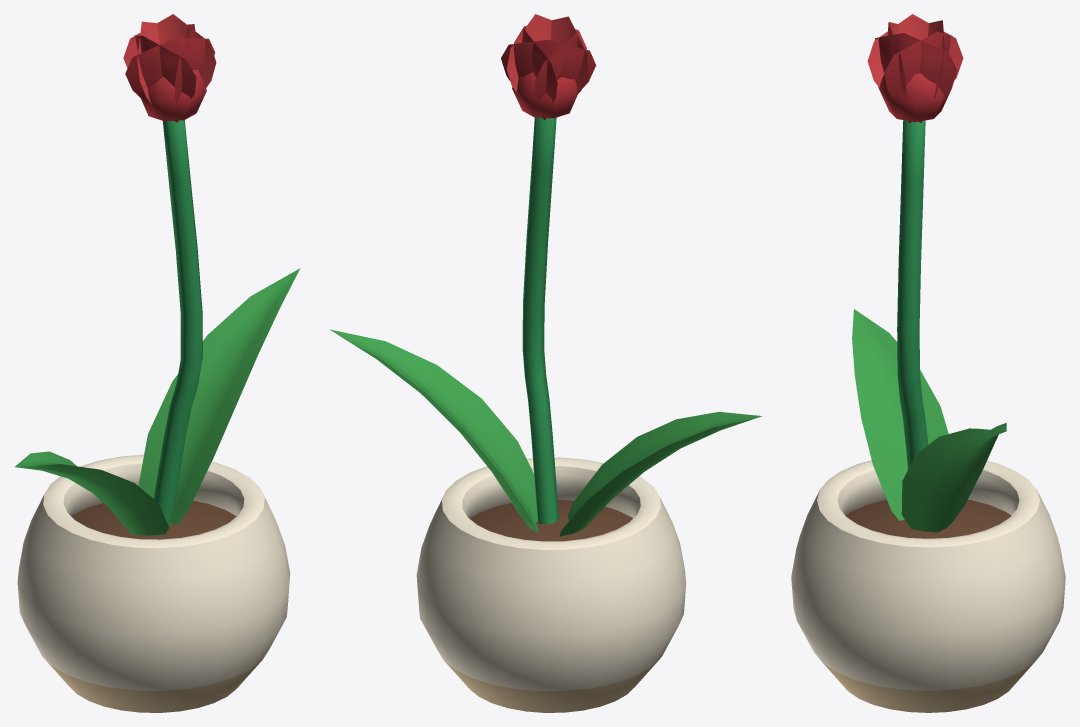
File: planta_mini_tulipa.glb
3 views of the same model, side by side, from view 1: azimuth 30°, elevation 25°; view 2: azimuth 150°, elevation 25°; view 3: azimuth 270°, elevation 25° (orthographic).
Parts seen in each view (by area): view 1: planta_mini_tulipa; view 2: planta_mini_tulipa; view 3: planta_mini_tulipa.
Part boxes in pixels (x1,y1,x2,y2): planta_mini_tulipa: [15, 14, 299, 712]; planta_mini_tulipa: [330, 14, 762, 712]; planta_mini_tulipa: [791, 14, 1065, 712].
Size of the model in its own units: 0.1245 by 0.2146 by 0.0813.
1 material, 1 textured.
